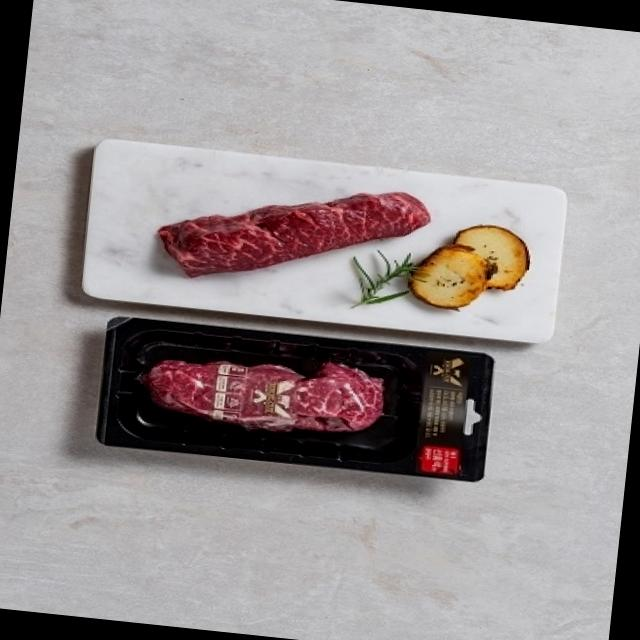beef: (120, 332, 398, 464), (163, 164, 414, 292)
